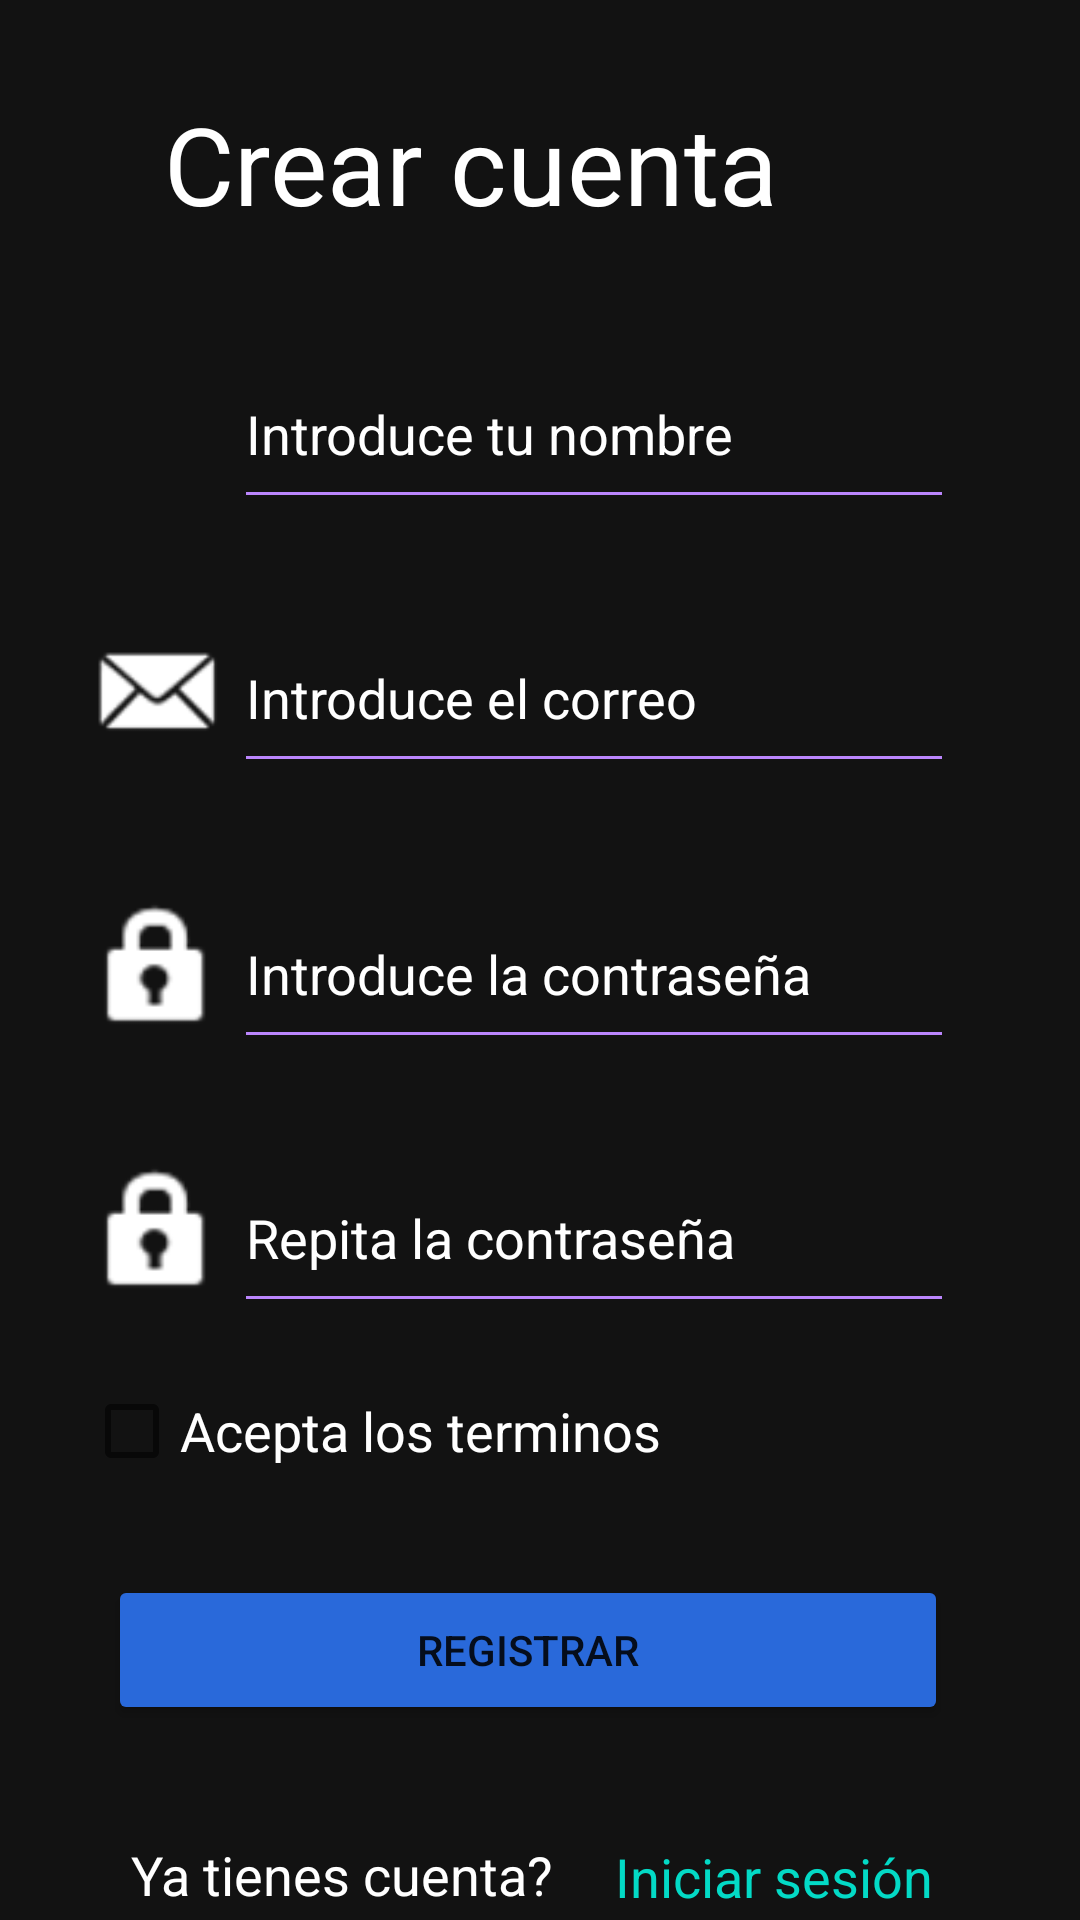

Point at icon controls on the screen. Image size 1080 × 1920, points as [x,y].
lock idle: [155,964], [155,1228]
sym action email: [157,690]
